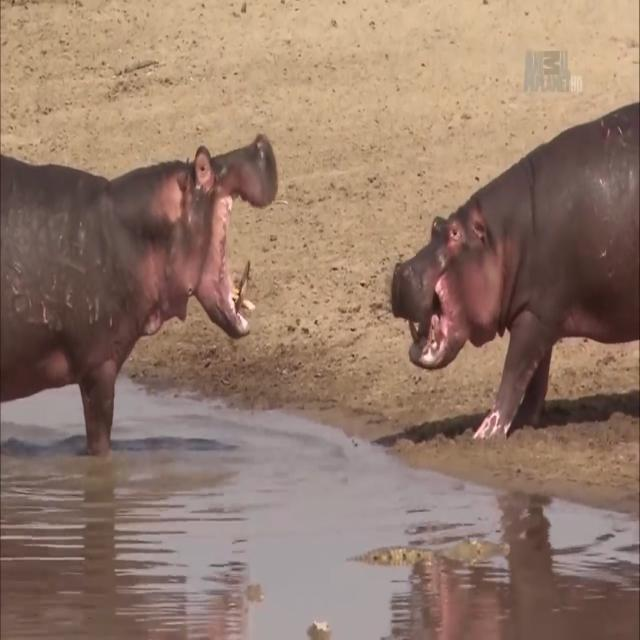Hippopotamus: (0, 126, 280, 458), (380, 95, 640, 435)
